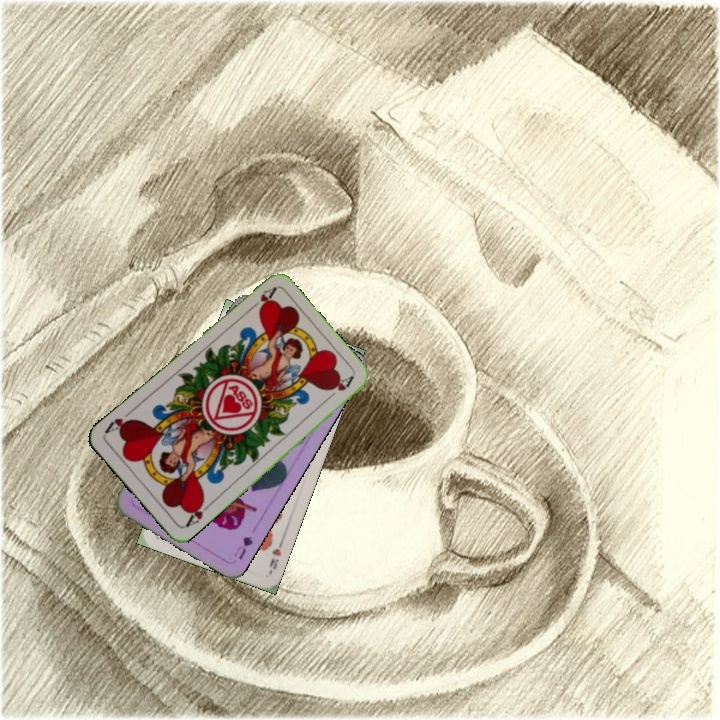GU: (230, 532, 255, 562)
H9: (265, 536, 286, 572)
HA: (181, 496, 214, 530), (244, 283, 278, 315)
